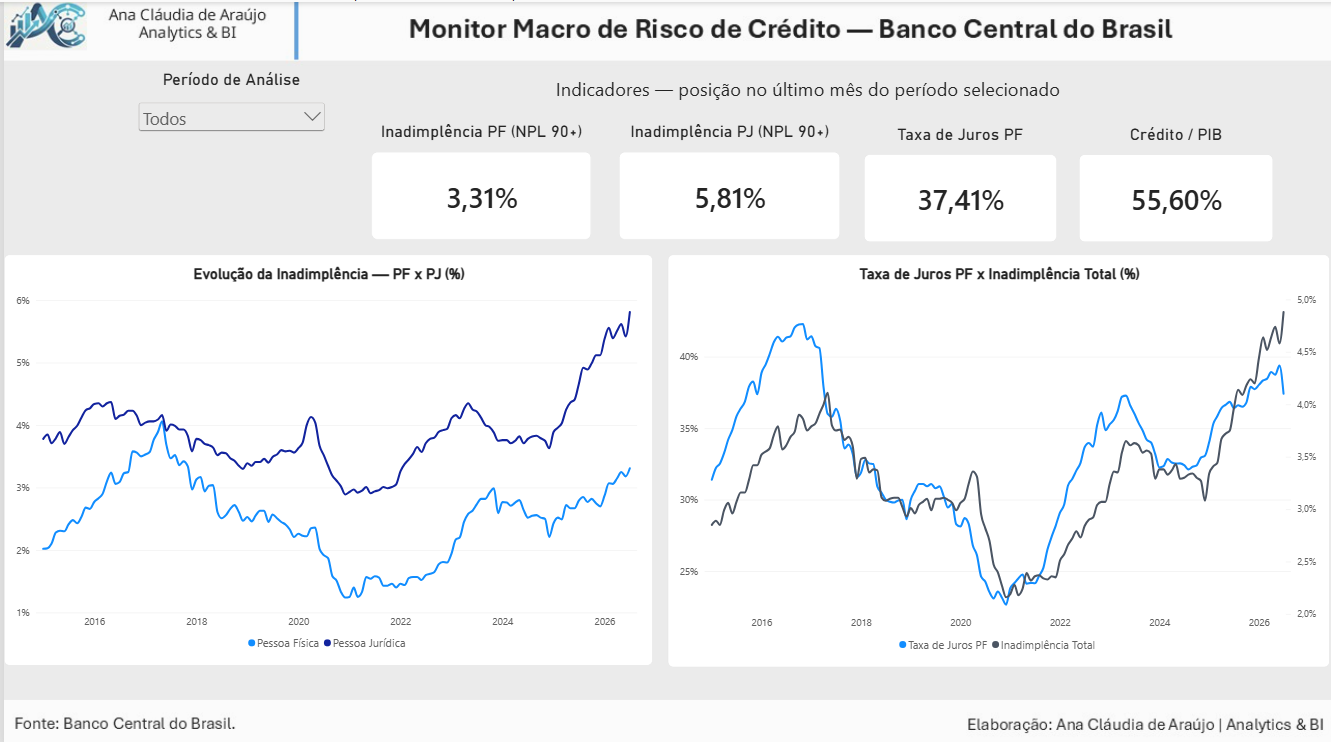

The dashboard page shown, as its layout file describes it:
{"tool":"powerbi","page":{"name":"Página 1","canvas":[1920,1080],"ordinal":0},"visuals":[{"type":"slicer","title":"Período de Análise","fields":{"Values":["dCalendario.Ano"]},"box":[190.4,97.4,279.2,240.2],"z":0},{"type":"cardVisual","title":"Inadimplência PF (NPL 90+)","fields":{"Data":["_medidas.Inadimplencia_PF_Atual"]},"box":[532.4,173,318.1,171],"z":2},{"type":"cardVisual","title":"Inadimplência PJ (NPL 90+)","fields":{"Data":["_medidas.Inadimplencia_PJ_Atual"]},"box":[889.5,173,320.3,171],"z":3},{"type":"cardVisual","title":"Taxa de Juros PF","fields":{"Data":["_medidas.Juros_PF_Atual"]},"box":[1244.4,177.3,279.2,171],"z":4},{"type":"cardVisual","title":"Crédito / PIB","fields":{"Data":["_medidas.Credito_PIB_Atual"]},"box":[1556,177.3,281.3,171],"z":5},{"type":"lineChart","title":"Evolução da Inadimplência — PF x PJ (%)","fields":{"Category":["dCalendario.Date"],"Y":["_medidas.Pessoa Física","_medidas.Pessoa Jurídica"]},"box":[0,365.7,939.2,595.1],"z":6},{"type":"lineChart","title":"Taxa de Juros PF x Inadimplência Total (%)","fields":{"Category":["dCalendario.Date"],"Y":["_medidas.Taxa de Juros PF"],"Y2":["_medidas.Inadimplência Total"]},"box":[960.9,365.7,958.7,597.3],"z":7},{"type":"textbox","box":[631.9,106,1064.8,41.1],"z":8}]}

Visuals, with their boxes in screenshot pixels (x1, y1, x2, y2), scaled from the page's 1920x1080 canvas onto the 1331x742 screenshot:
"Período de Análise" slicer: Rect(132, 67, 326, 232)
"Inadimplência PF (NPL 90+)" cardVisual: Rect(369, 119, 590, 236)
"Inadimplência PJ (NPL 90+)" cardVisual: Rect(617, 119, 839, 236)
"Taxa de Juros PF" cardVisual: Rect(863, 122, 1056, 239)
"Crédito / PIB" cardVisual: Rect(1079, 122, 1274, 239)
"Evolução da Inadimplência — PF x PJ (%)" lineChart: Rect(0, 251, 651, 660)
"Taxa de Juros PF x Inadimplência Total (%)" lineChart: Rect(666, 251, 1330, 662)
textbox: Rect(438, 73, 1176, 101)
